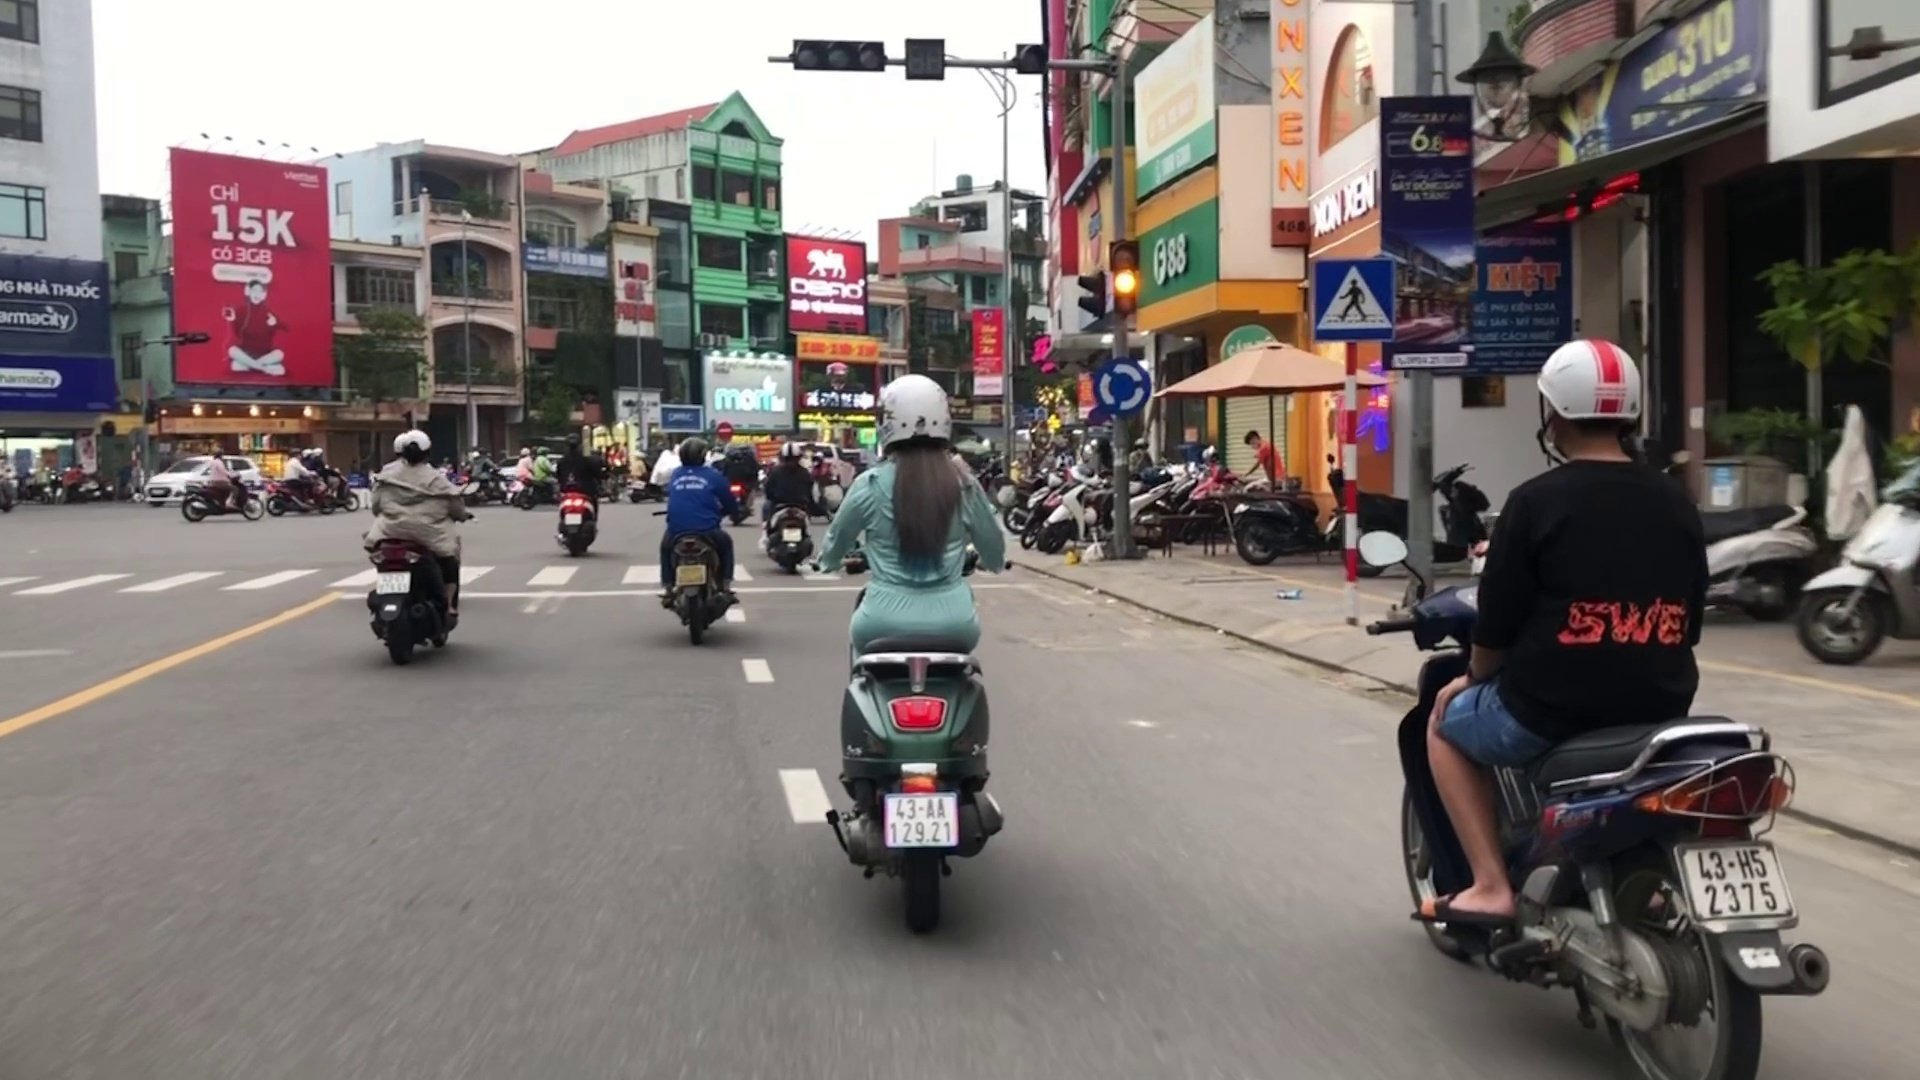Bien khac: (1095, 359, 1145, 411)
Cam di nguoc chieu: (713, 419, 732, 440)
Nguoi di bo: (1313, 255, 1395, 342)
